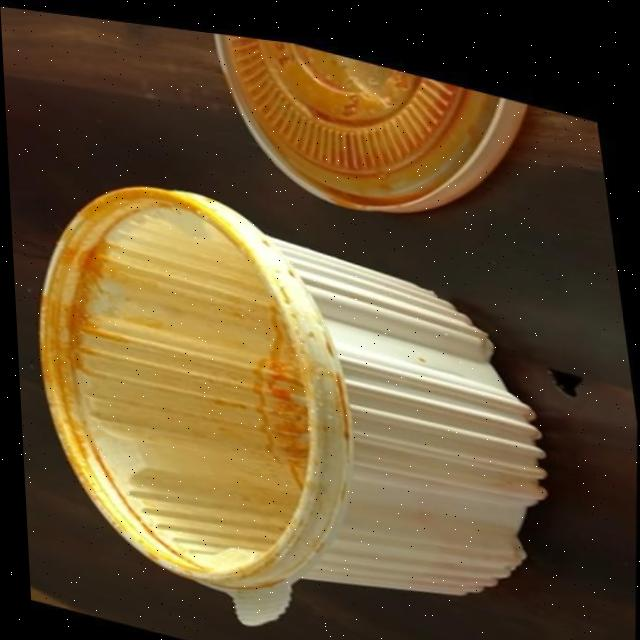disposable: (8, 172, 573, 626)
